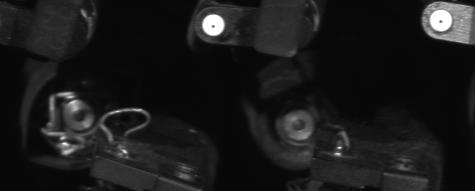fiber: (425, 9, 459, 36), (200, 12, 232, 39)
